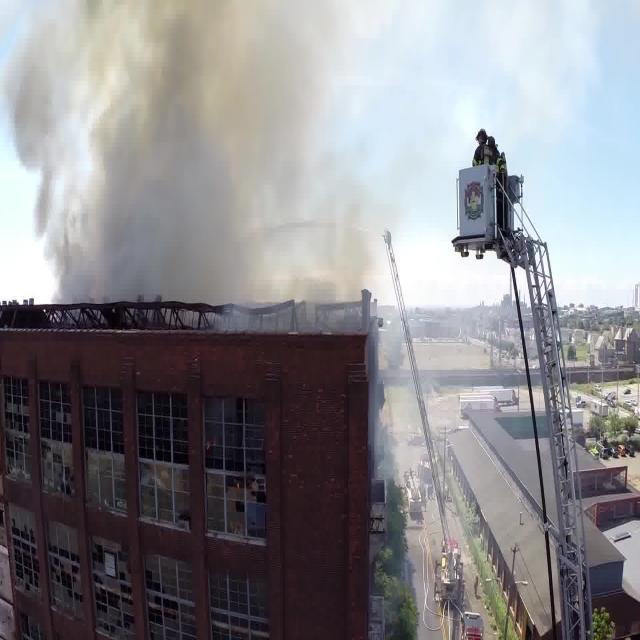Smoke: (23, 28, 343, 276)
